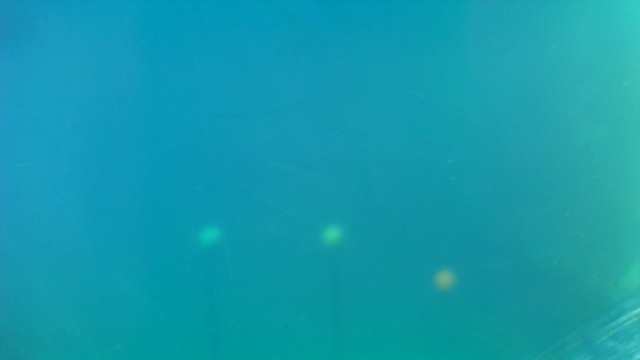buoy_red: (433, 271, 452, 290)
